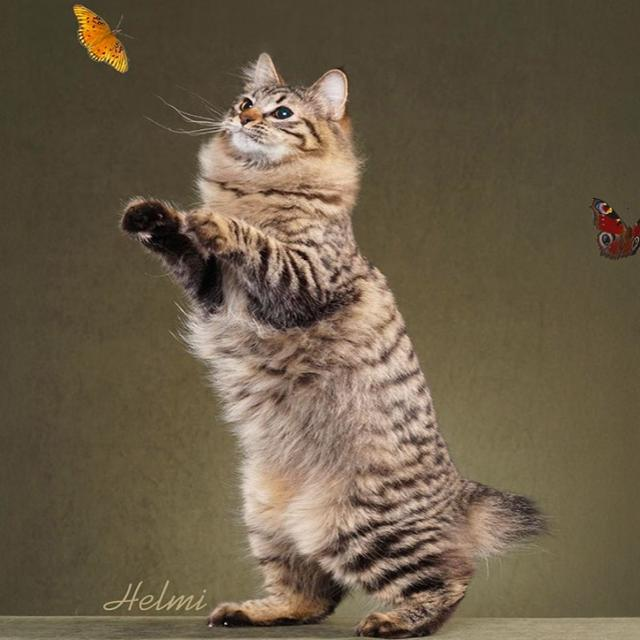American Bobtail: (114, 48, 550, 640)
